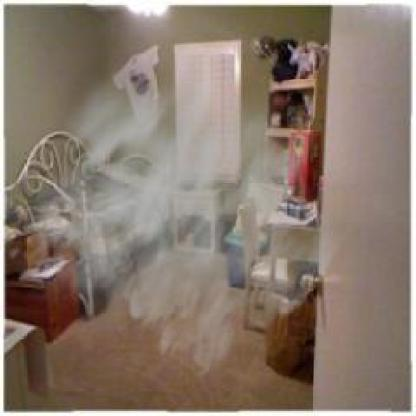Smoke: (8, 13, 360, 380)
